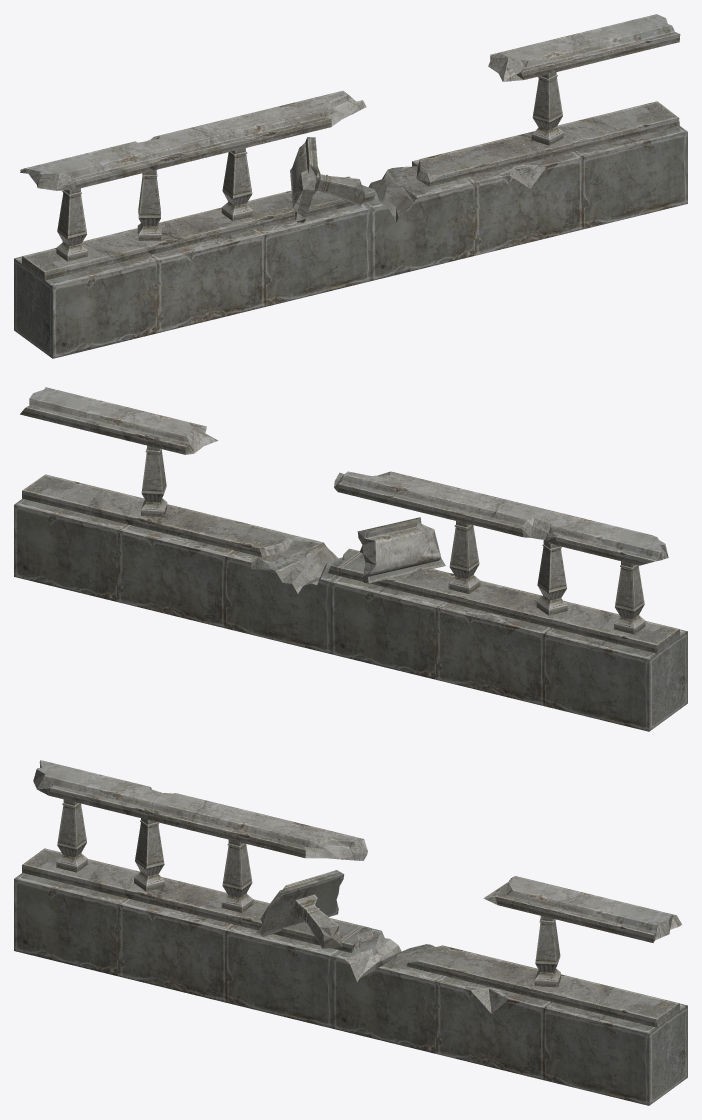
File: bg_lut_lucastle_stairfence02d_sm_khg.FBX
3 renders of one model, top to bottom at view 1: azimuth 30°, elevation 25°; view 2: azimuth 150°, elevation 25°; view 3: azimuth 330°, elevation 25°, orthographic.
Visible parts, largest first — view 1: bg_lut_lucastle_stairfence02d_sm_khg; view 2: bg_lut_lucastle_stairfence02d_sm_khg; view 3: bg_lut_lucastle_stairfence02d_sm_khg.
Boxes of the visible parts, box(x1,y1,x2,y2) form: bg_lut_lucastle_stairfence02d_sm_khg: box(14, 14, 687, 358); bg_lut_lucastle_stairfence02d_sm_khg: box(14, 387, 687, 731); bg_lut_lucastle_stairfence02d_sm_khg: box(14, 760, 687, 1105).
Bounding box in the file's own units: 580 × 148 × 69.54.
